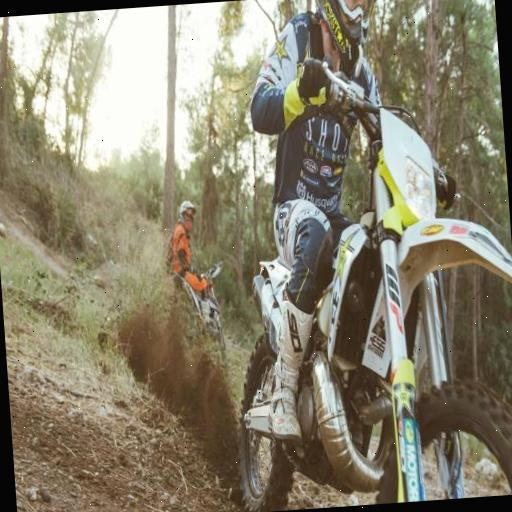helmet: (240, 0, 449, 491)
